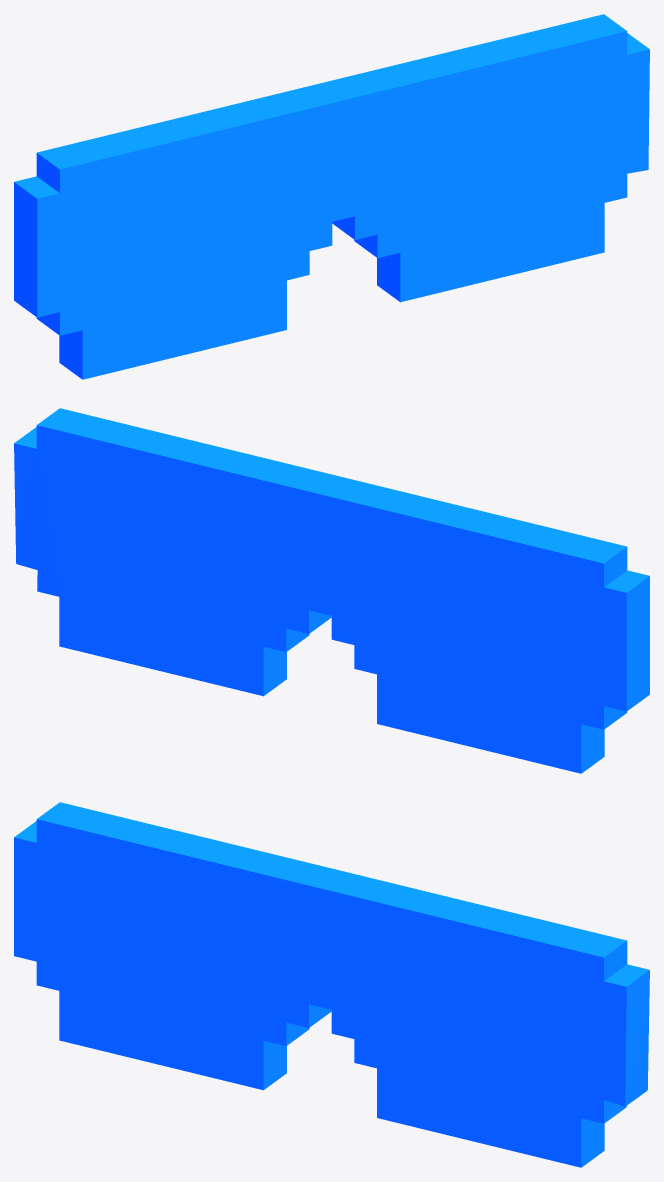
The model's file is sunnies_blue.glb.
The picture shows the model from 3 angles, top to bottom: view 1: azimuth 30°, elevation 25°; view 2: azimuth 150°, elevation 25°; view 3: azimuth 330°, elevation 25°; orthographic projection.
Visible parts, largest first — view 1: blue sunnies.001; view 2: blue sunnies.001; view 3: blue sunnies.001.
Part boxes in pixels (left/top/right/bottom): blue sunnies.001: left=14, top=14, right=649, bottom=379; blue sunnies.001: left=14, top=408, right=649, bottom=773; blue sunnies.001: left=14, top=802, right=649, bottom=1167.
Size of the model in its own units: 2.7 by 0.9086 by 0.1775.
1 material, 1 textured.
